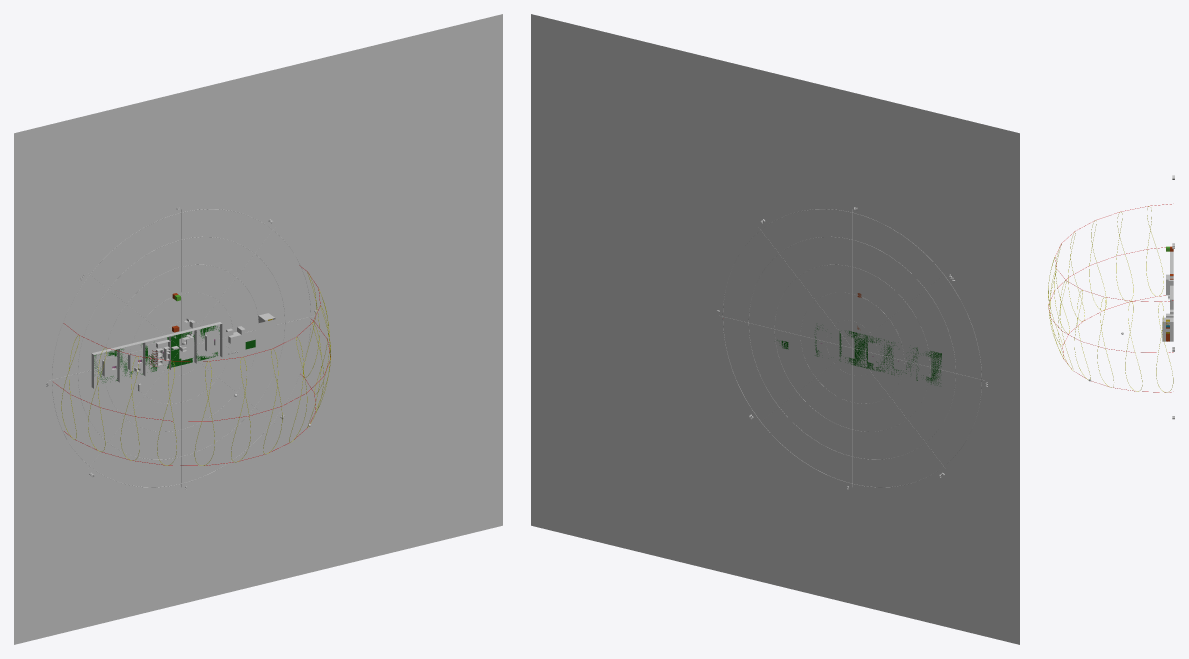
Rendered from DYIMBA_RESIDENCE5 freecad expt.obj.
The picture shows the model from 3 angles, left to right: view 1: azimuth 30°, elevation 25°; view 2: azimuth 150°, elevation 25°; view 3: azimuth 270°, elevation 25°; orthographic projection. The views are drawn at different scales.
Visible parts, largest first — view 1: Plane.012, SPathMesh_Mesh.012; view 2: Plane.012, SPathMesh_Mesh.012, Plane; view 3: SPathMesh_Mesh.012.
Part boxes in pixels (x1=…): Plane.012: x1=14, y1=14, x2=502, y2=644; SPathMesh_Mesh.012: x1=46, y1=207, x2=330, y2=489; Plane.012: x1=531, y1=14, x2=1019, y2=644; SPathMesh_Mesh.012: x1=716, y1=207, x2=987, y2=489; Plane: x1=762, y1=309, x2=788, y2=349; SPathMesh_Mesh.012: x1=1048, y1=175, x2=1174, y2=419.
Bounding box in the file's own units: 377 × 377 × 101.
